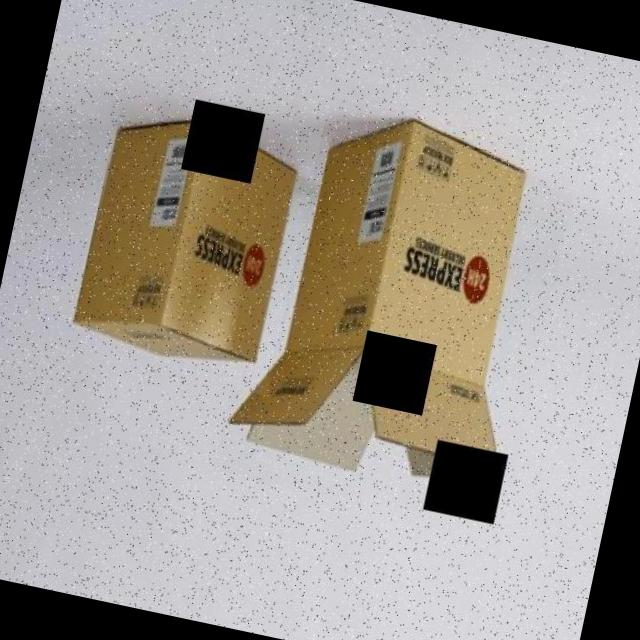box: (212, 89, 582, 532), (59, 70, 326, 395)
